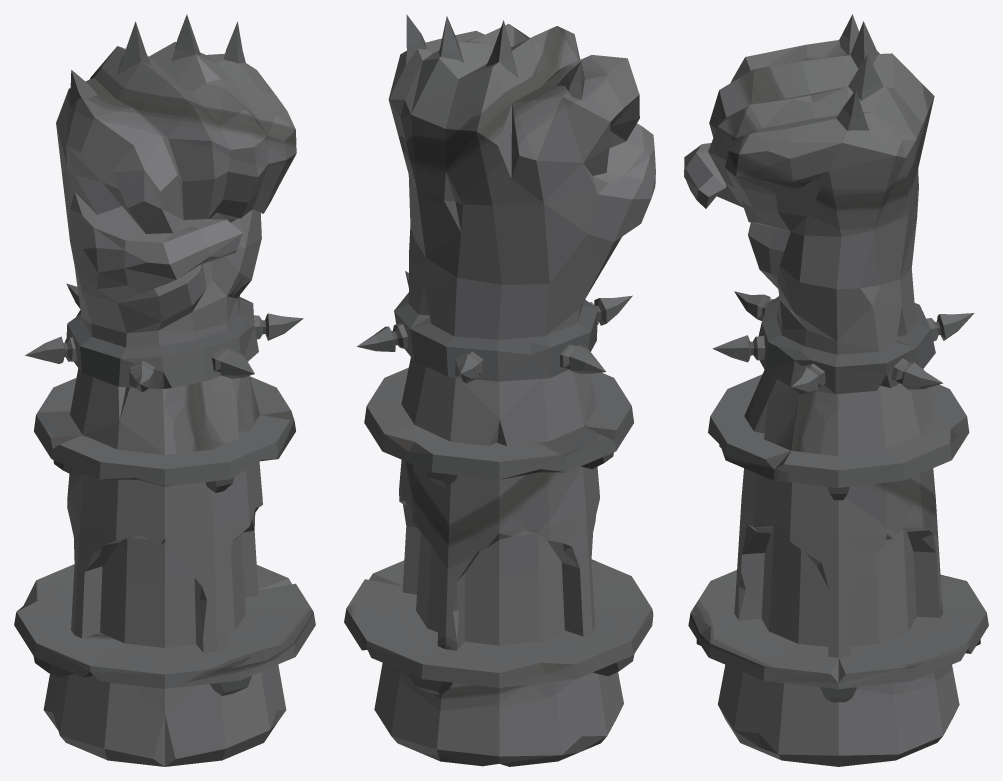
File: statue.gltf
3 renders of one model, left to right at view 1: azimuth 30°, elevation 25°; view 2: azimuth 150°, elevation 25°; view 3: azimuth 270°, elevation 25°, orthographic. The views are drawn at different scales.
Parts seen in each view (by area): view 1: statue; view 2: statue; view 3: statue.
Part boxes in pixels (bbox=[...]): statue: bbox=[14, 14, 315, 766]; statue: bbox=[344, 14, 655, 766]; statue: bbox=[684, 14, 988, 766].
Bounding box in the file's own units: 2.25 × 5.7 × 2.28.
Materials: 1 (1 with a texture image).
